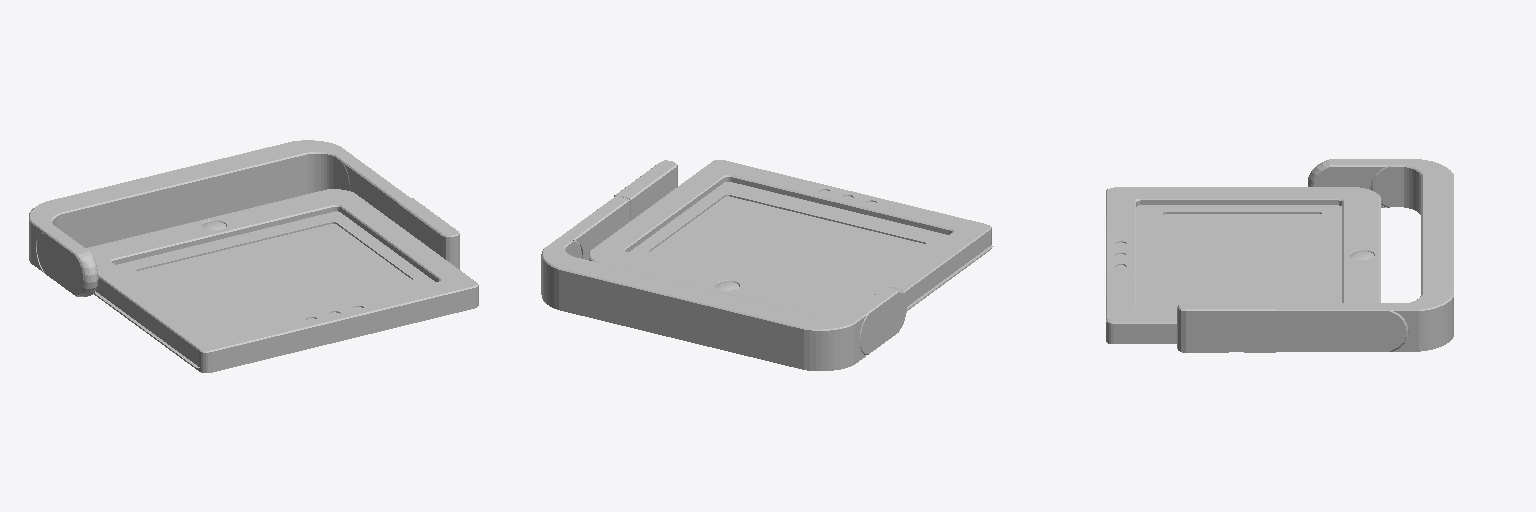
The model's file is Tile Nav.obj.
3 views of the same model, side by side, from view 1: azimuth 30°, elevation 25°; view 2: azimuth 150°, elevation 25°; view 3: azimuth 270°, elevation 25° (orthographic).
Visible parts, largest first — view 1: Pokenavi_Pokenavi_pokenavi01.png; view 2: Pokenavi_Pokenavi_pokenavi01.png; view 3: Pokenavi_Pokenavi_pokenavi01.png.
Boxes of the visible parts, box(x1,y1,x2,y2) form: Pokenavi_Pokenavi_pokenavi01.png: box(29, 140, 478, 372); Pokenavi_Pokenavi_pokenavi01.png: box(541, 160, 993, 370); Pokenavi_Pokenavi_pokenavi01.png: box(1106, 159, 1453, 352).
Size of the model in its own units: 0.7636 by 0.1032 by 0.7399.